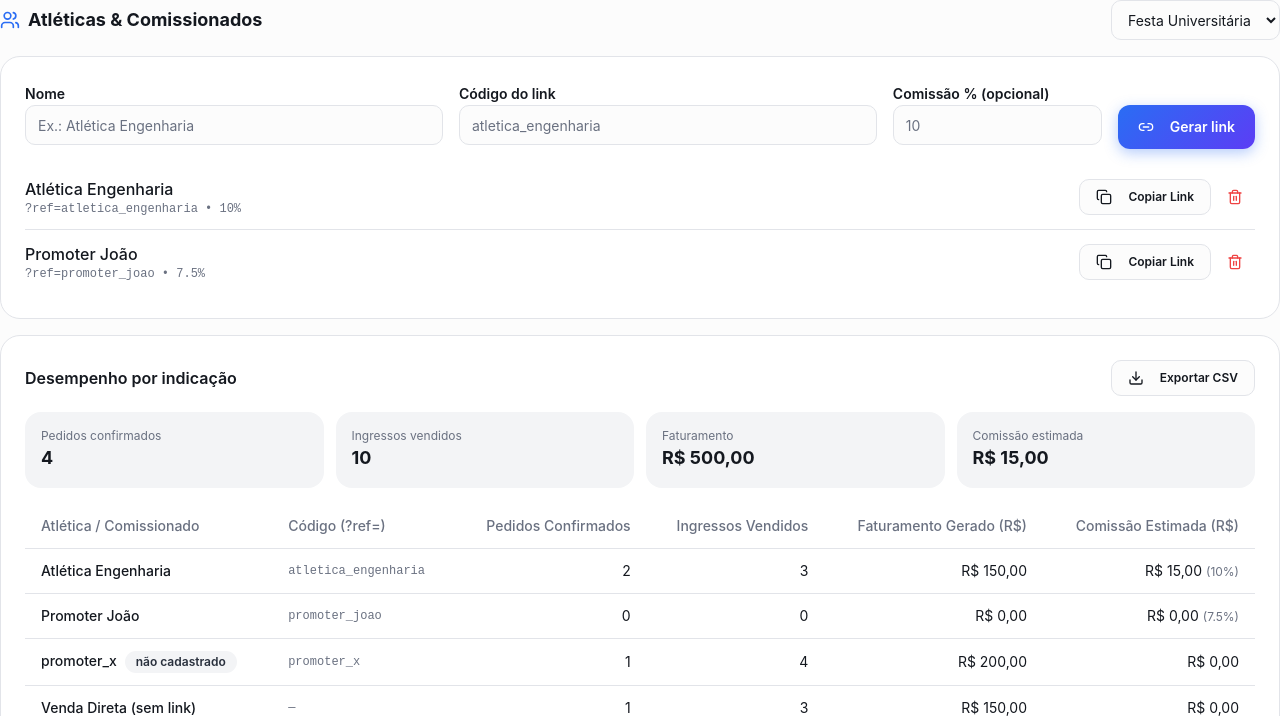
Test: Atléticas & Comissionados — gerador de link › código duplicado no evento vira erro inline no campo
Type "Atlética Engenharia" into the field with id "affiliate-name". click: (234, 125)
box: [25,105,443,145]
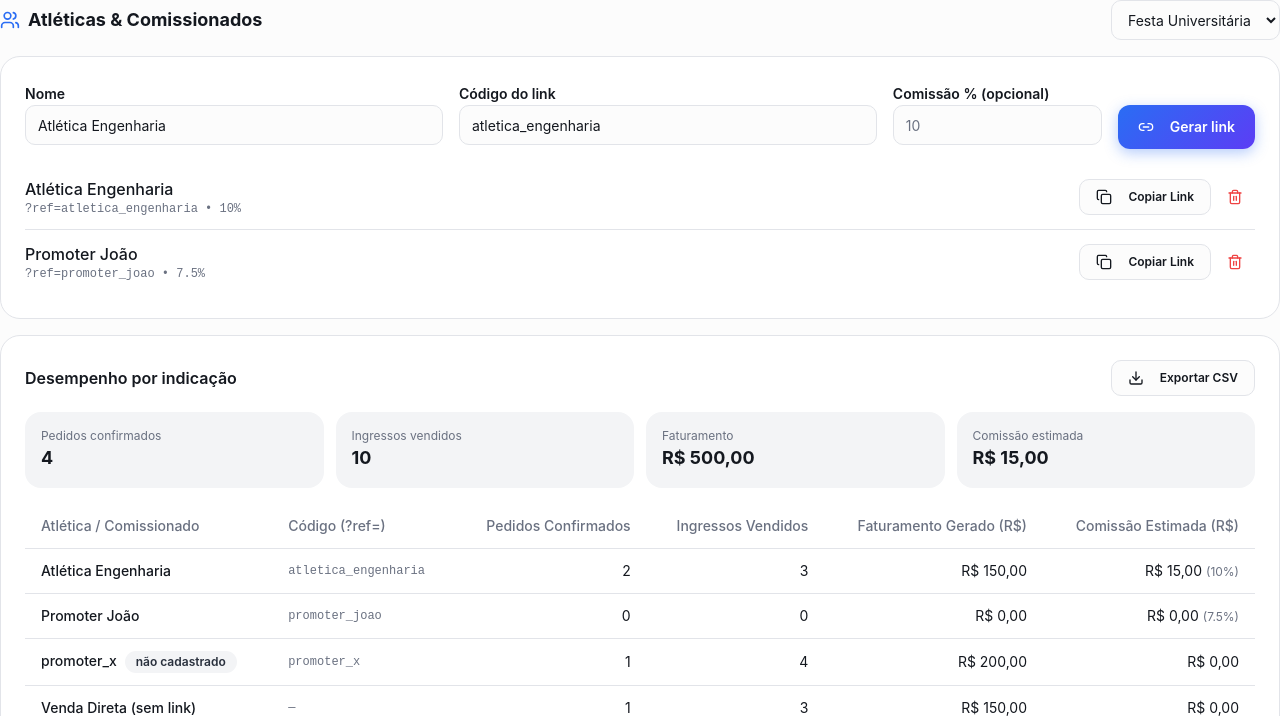
Click the button "Gerar link". click: (1186, 127)
box: [1118,105,1255,149]
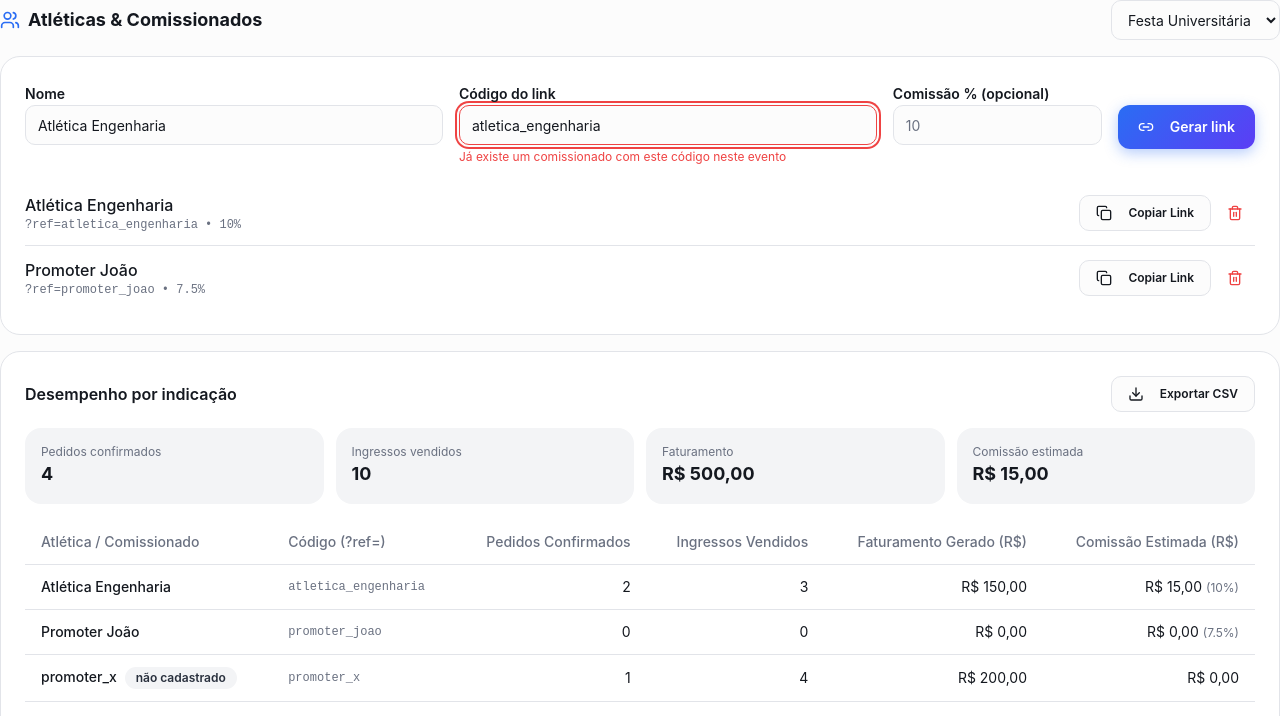
Expected: the text "Já existe um comissionado com este código neste evento" is shown, [459,149,786,164]
